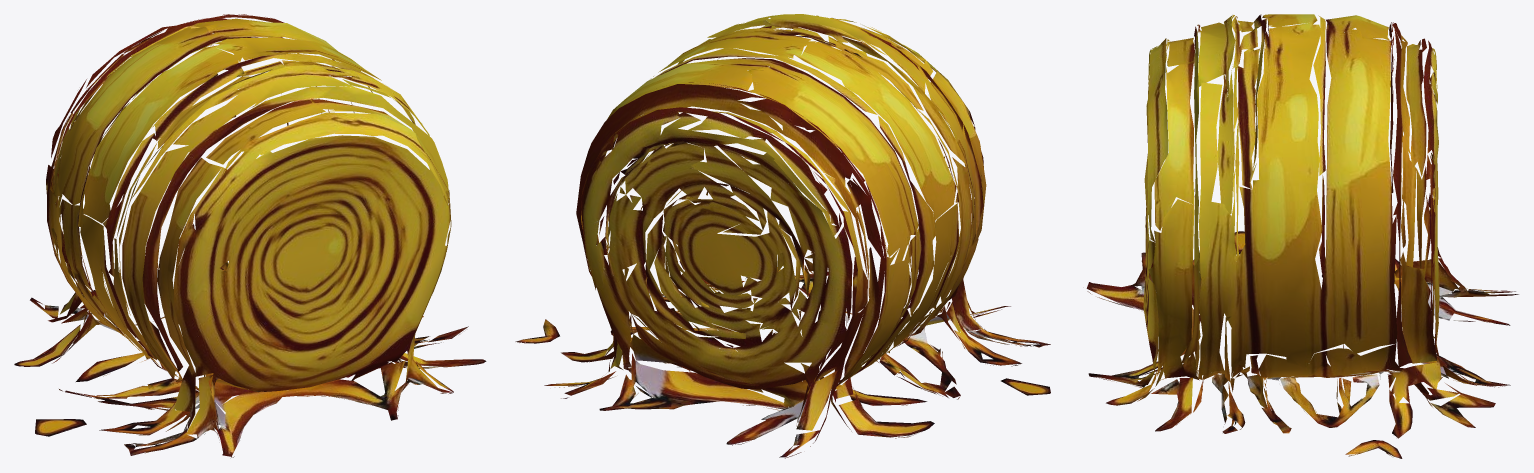
The model's file is tarla_saman.glb.
3 views of the same model, side by side, from view 1: azimuth 30°, elevation 25°; view 2: azimuth 150°, elevation 25°; view 3: azimuth 270°, elevation 25° (orthographic). The views are drawn at different scales.
Parts seen in each view (by area): view 1: geometry_0; view 2: geometry_0; view 3: geometry_0.
Part boxes in pixels (x1,y1,x2,y2): geometry_0: [14, 14, 486, 457]; geometry_0: [515, 14, 1050, 458]; geometry_0: [1086, 14, 1518, 458].
Size of the model in its own units: 0.9993 by 0.665 by 0.8192.
1 material, 1 textured.
